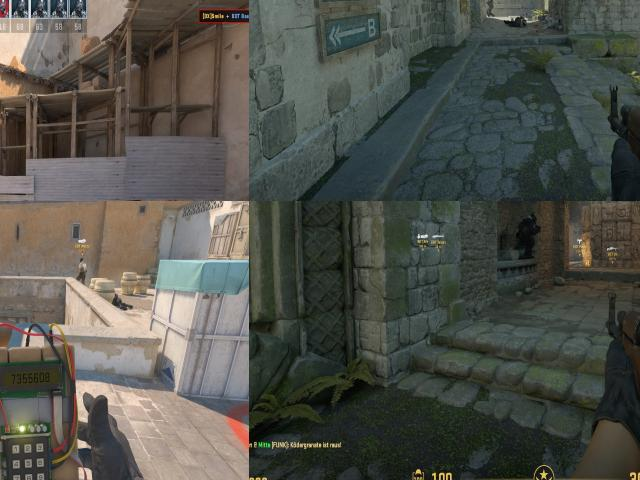Bomb: (0, 346, 80, 480)
CT: (518, 211, 542, 261), (486, 0, 494, 20)
CT-Head: (526, 213, 536, 226)
Dead: (111, 293, 132, 313)
T: (79, 256, 87, 284)
T-Head: (80, 257, 84, 262)
